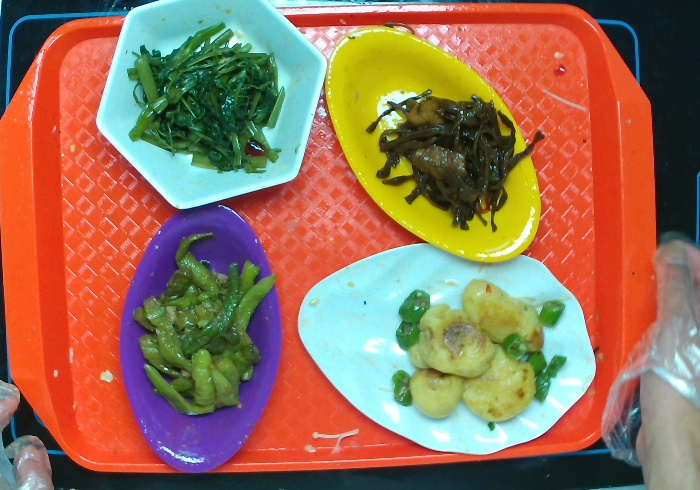RJxy-Bai_Ye_Pan: (288, 239, 601, 460)
RJxy-Fen_Hong_Tuo_Yuan: (108, 200, 287, 475)
RJxy-Huang_Se_Tuo_Yuan: (318, 23, 546, 264)
RJxy-Liu_Jiao_Wan: (92, 1, 333, 216)
